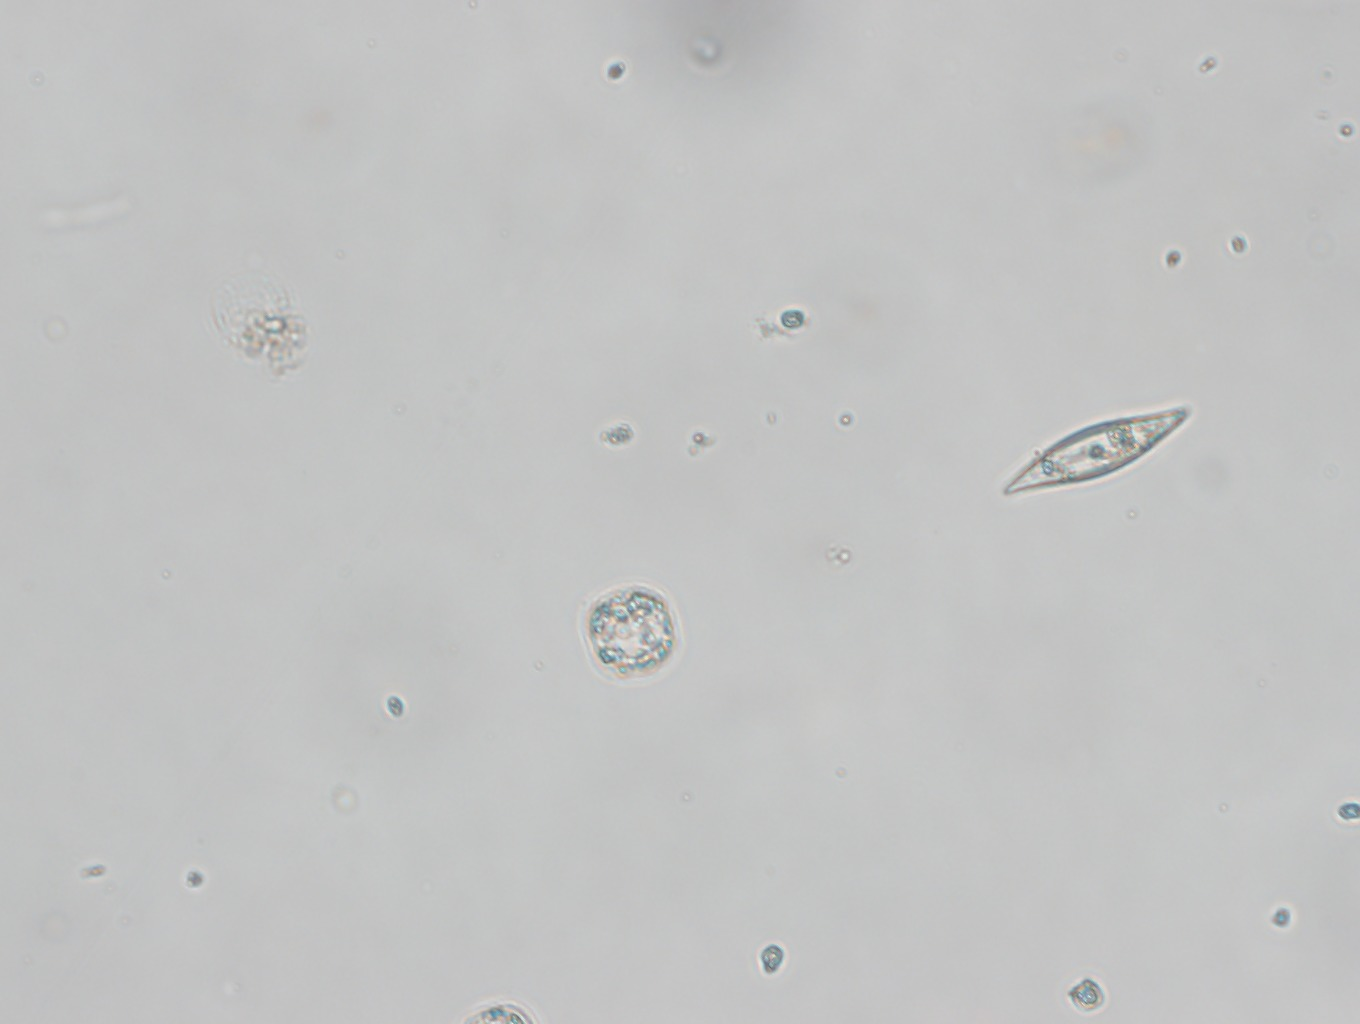pleurosigma pelagicum: (1000, 399, 1189, 497)
